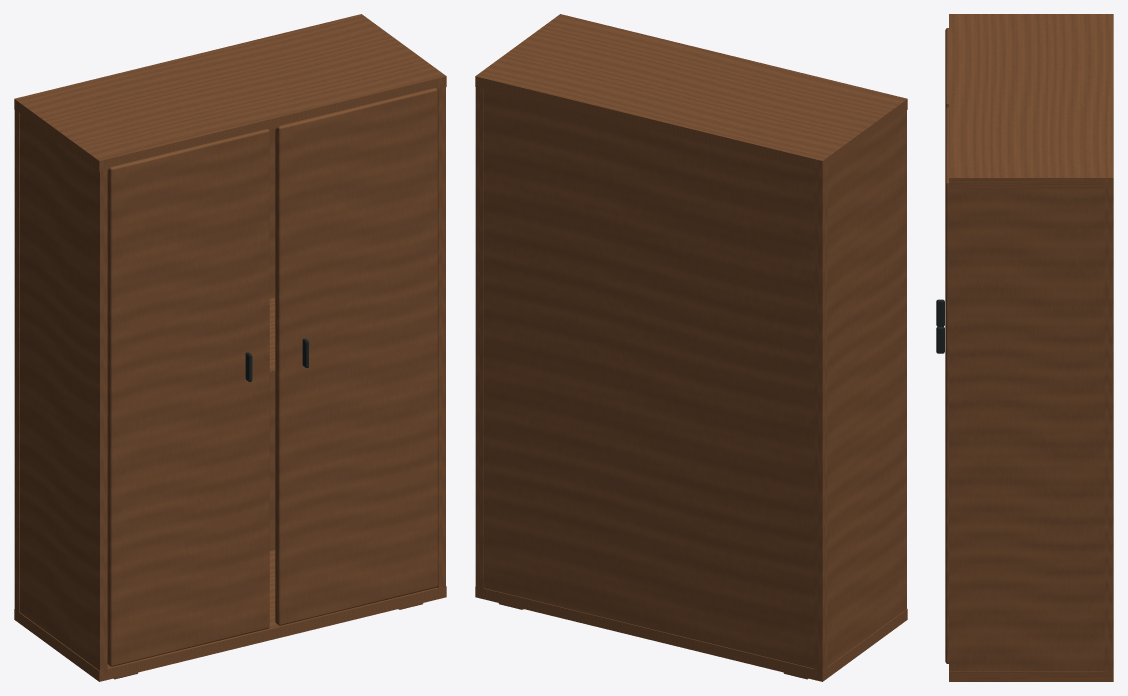
File: wardrobe_engawa-d9a0e988f0e0.glb
The picture shows the model from 3 angles, left to right: view 1: azimuth 30°, elevation 25°; view 2: azimuth 150°, elevation 25°; view 3: azimuth 270°, elevation 25°; orthographic projection. The views are drawn at different scales.
Visible parts, largest first — view 1: surface_walnut; view 2: surface_walnut; view 3: surface_walnut, surface_black.
Part boxes in pixels (left/top/right/bottom): surface_walnut: left=14, top=14, right=446, bottom=681; surface_walnut: left=475, top=14, right=907, bottom=681; surface_walnut: left=945, top=14, right=1113, bottom=681; surface_black: left=936, top=299, right=944, bottom=353.
Bounding box in the file's own units: 1.32 × 1.91 × 0.6026.
Materials: 2 (1 with a texture image).
